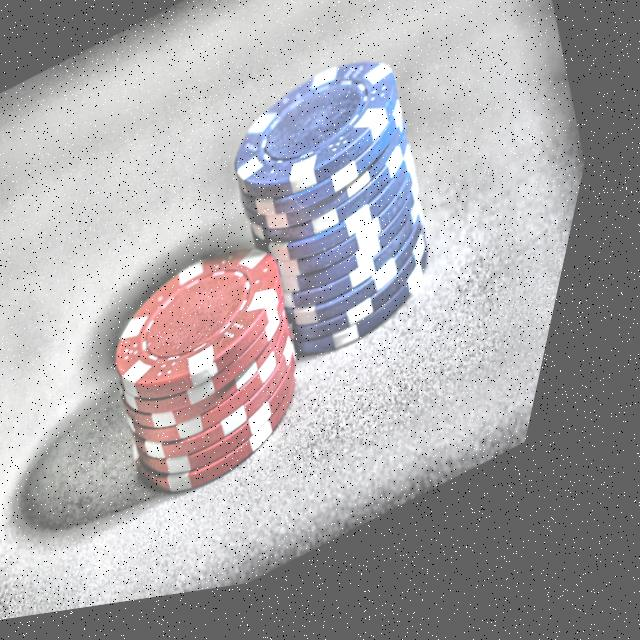Chip: (173, 23, 524, 411), (63, 210, 384, 548)
